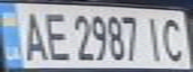2: (69, 10, 93, 62)
7: (121, 12, 145, 62)
8: (109, 11, 127, 62)
9: (90, 10, 109, 62)
A: (15, 7, 48, 62)
C: (157, 13, 190, 64)
E: (39, 8, 69, 62)
I: (142, 12, 169, 63)
